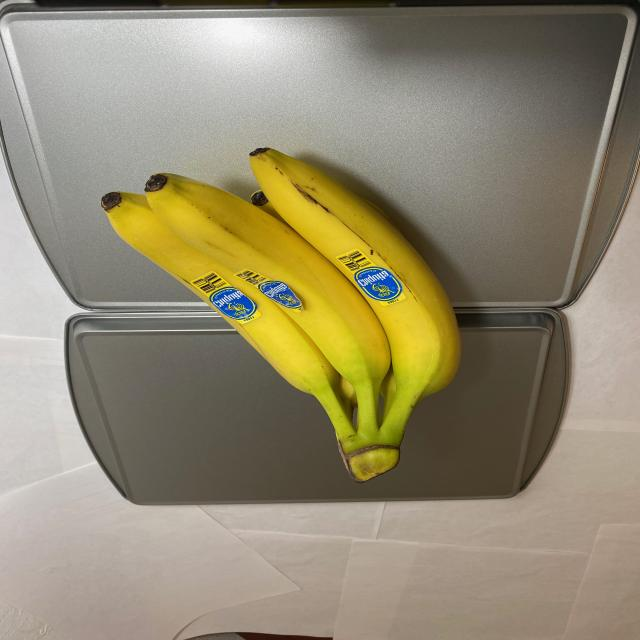banana: (96, 143, 467, 483)
